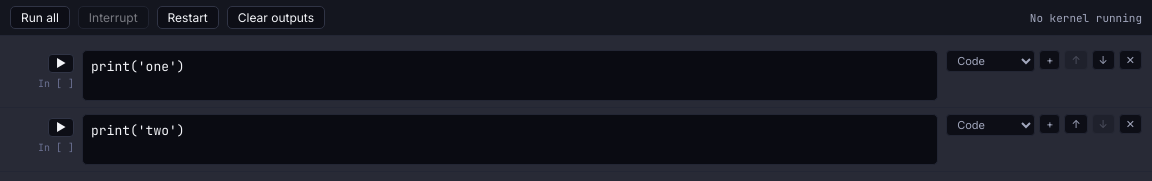
running a cell › shows the prompt as running, then as the kernel's own counter
Click the button named "Run cell 1": (61, 64) [48, 54, 74, 73]
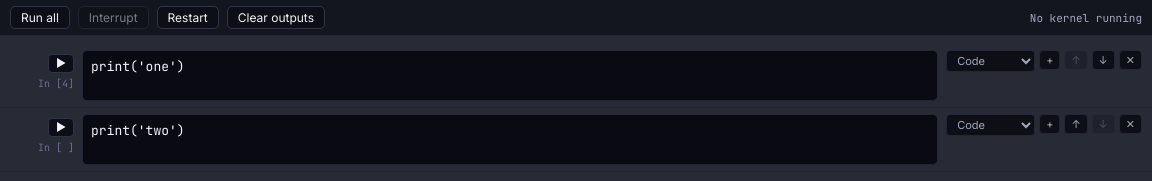
Expected: the text "In [4]" is shown, [38, 77, 74, 90]
